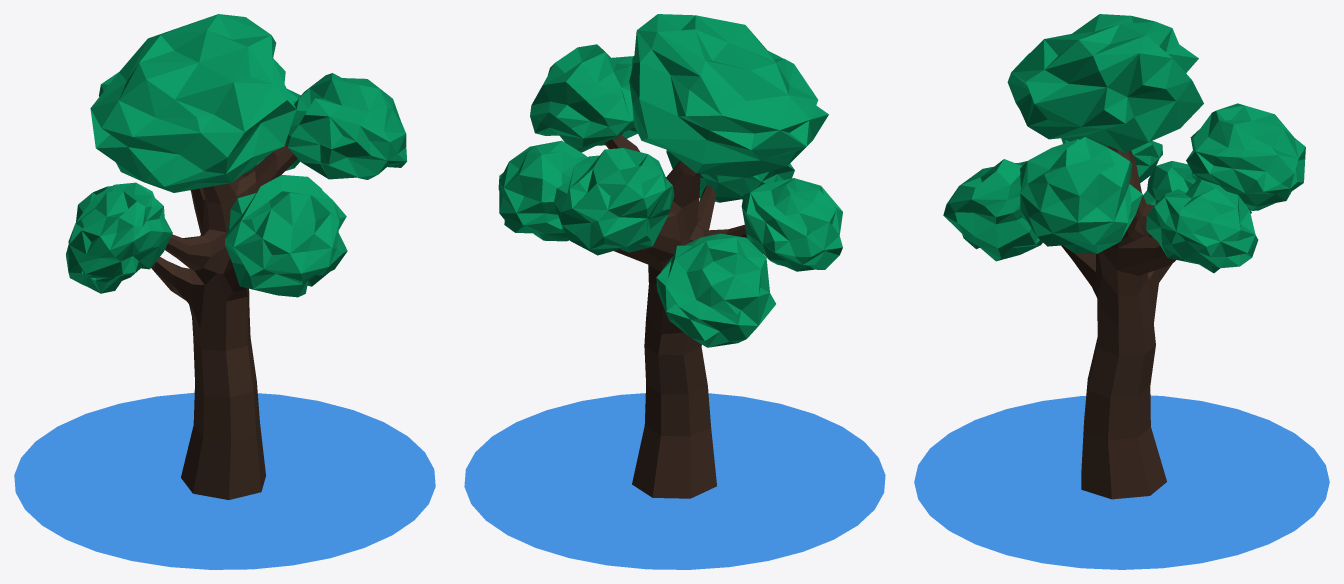
Rendered from TreeRot2.fbx.
3 renders of one model, left to right at view 1: azimuth 30°, elevation 25°; view 2: azimuth 150°, elevation 25°; view 3: azimuth 270°, elevation 25°, orthographic.
Visible parts, largest first — view 1: Tree.001; view 2: Tree.001; view 3: Tree.001.
Part boxes in pixels (bbox=[...]): Tree.001: bbox=[14, 14, 435, 569]; Tree.001: bbox=[464, 14, 885, 569]; Tree.001: bbox=[914, 14, 1329, 569].
Size of the model in its own units: 586 by 699 by 586.
